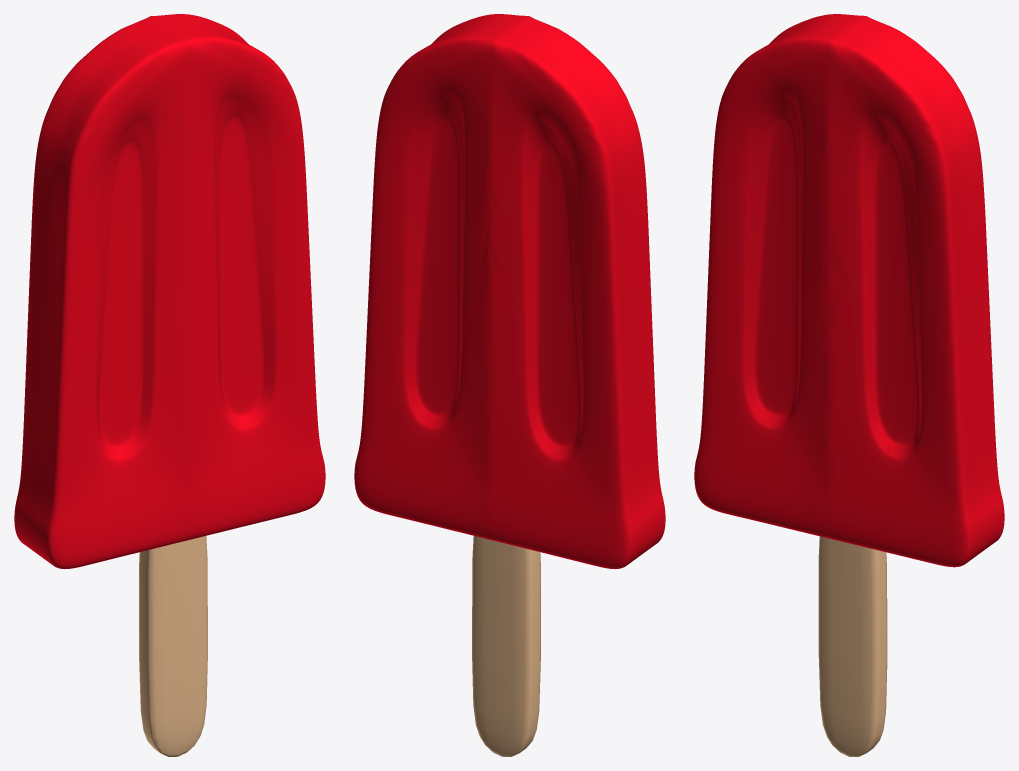
The model's file is icecream-opt.glb.
The picture shows the model from 3 angles, left to right: view 1: azimuth 30°, elevation 25°; view 2: azimuth 150°, elevation 25°; view 3: azimuth 330°, elevation 25°; orthographic projection.
Visible parts, largest first — view 1: food, Object_9; view 2: food, Object_9; view 3: food, Object_9.
Part boxes in pixels (bbox=[...]): food: bbox=[14, 14, 325, 569]; Object_9: bbox=[139, 536, 207, 756]; food: bbox=[354, 14, 665, 569]; Object_9: bbox=[472, 536, 540, 756]; food: bbox=[694, 14, 1004, 567]; Object_9: bbox=[818, 536, 887, 756].
Size of the model in its own units: 0.708 by 1.77 by 0.1822.
